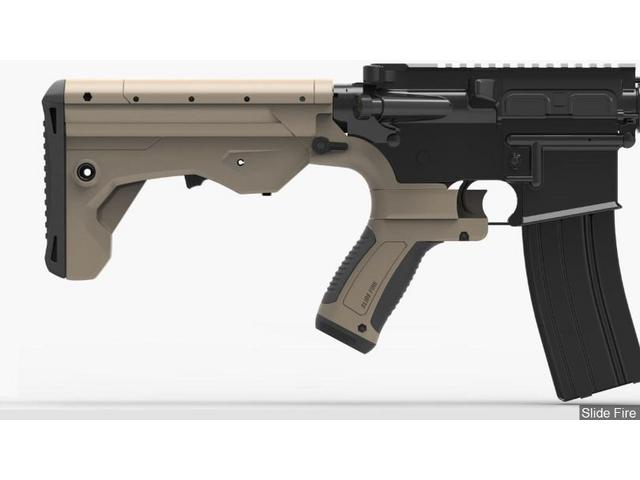rifle: (31, 67, 640, 394)
